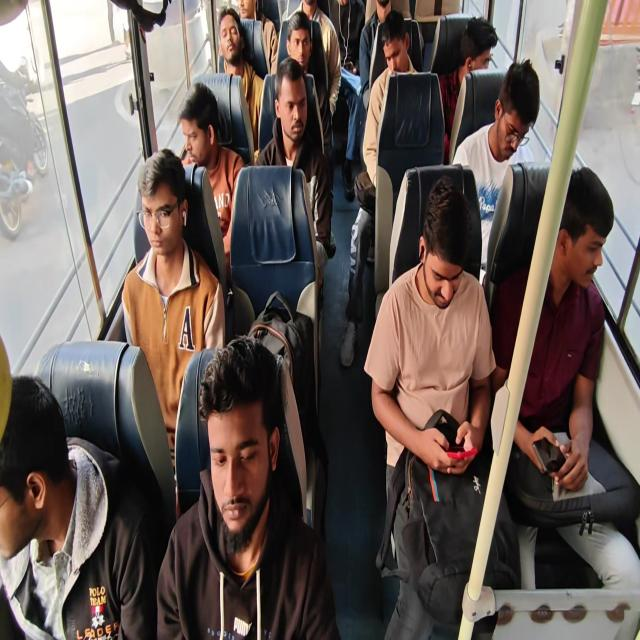person: (1, 1, 638, 638), (364, 175, 520, 638), (490, 164, 640, 591), (156, 334, 340, 639), (1, 373, 158, 639), (121, 148, 226, 517), (339, 10, 419, 367), (451, 58, 540, 284), (254, 57, 336, 296), (178, 81, 245, 280), (438, 16, 498, 162), (280, 10, 332, 154), (217, 6, 264, 150), (291, 0, 342, 118), (358, 0, 392, 111), (237, 0, 278, 77), (284, 11, 313, 74)
